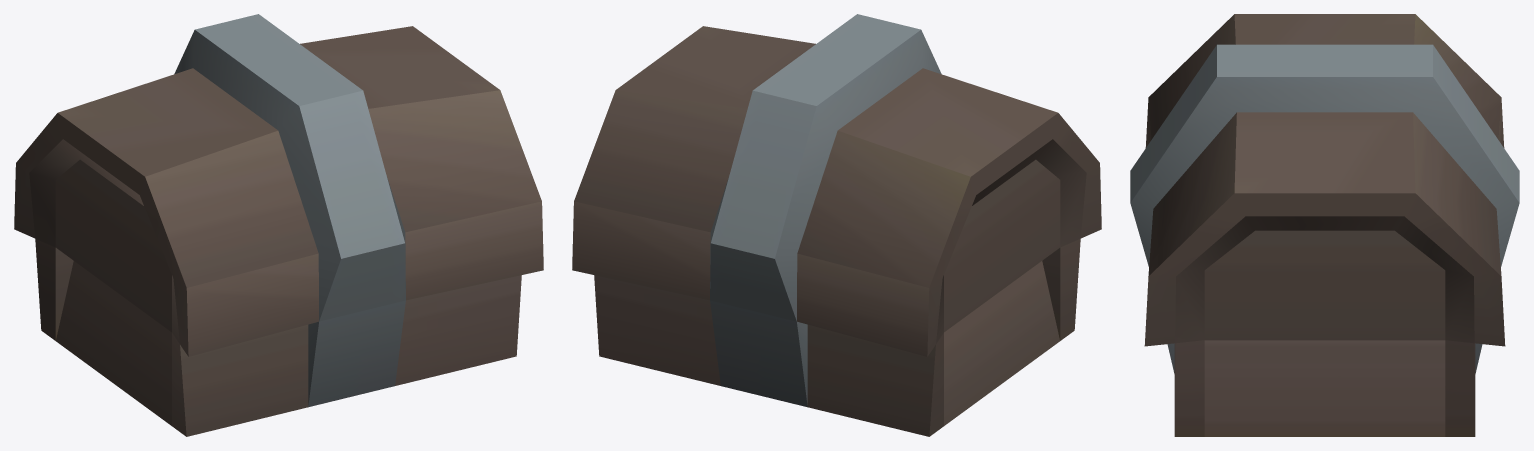
The model's file is kay-bau-medio.gltf.
3 renders of one model, left to right at view 1: azimuth 30°, elevation 25°; view 2: azimuth 150°, elevation 25°; view 3: azimuth 270°, elevation 25°, orthographic. The views are drawn at different scales.
Visible parts, largest first — view 1: trunk_medium_B; view 2: trunk_medium_B; view 3: trunk_medium_B.
Boxes of the visible parts, x1,y1,x2,y2 form: trunk_medium_B: [14, 14, 543, 436]; trunk_medium_B: [572, 14, 1101, 436]; trunk_medium_B: [1130, 14, 1519, 436].
Bounding box in the file's own units: 0.6195 × 0.4722 × 0.5688.
1 material, 1 textured.
